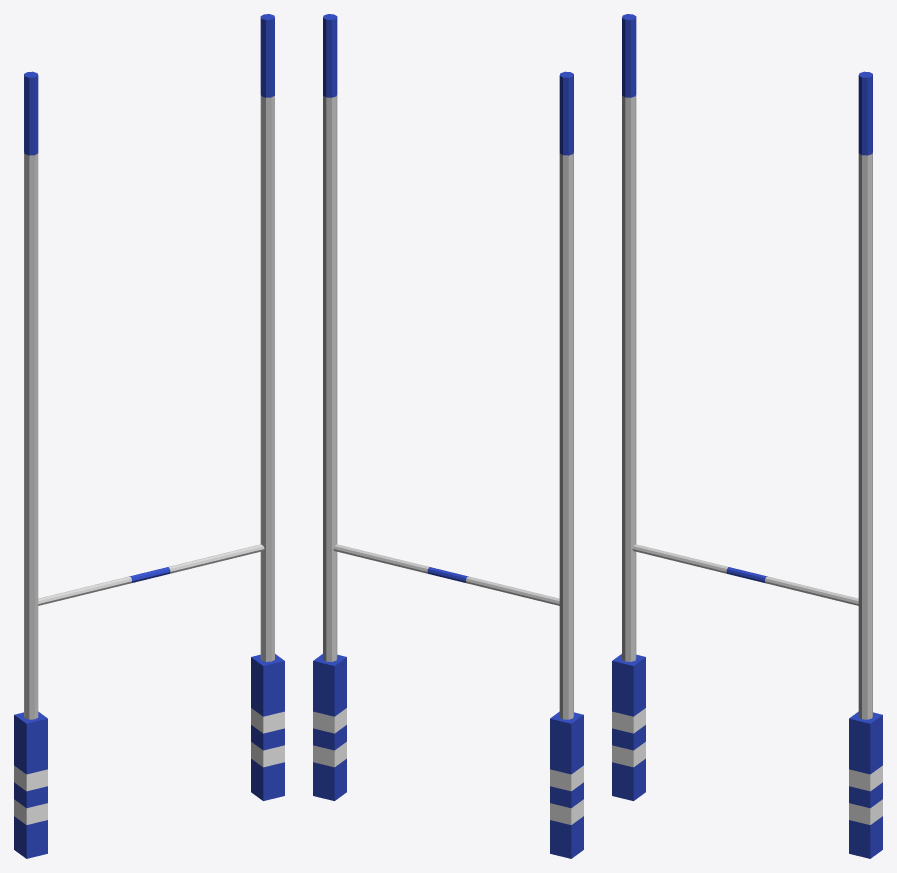
File: Rugby Goals.fbx
The picture shows the model from 3 angles, left to right: view 1: azimuth 30°, elevation 25°; view 2: azimuth 150°, elevation 25°; view 3: azimuth 330°, elevation 25°; orthographic projection.
Visible parts, largest first — view 1: Rugby Goals; view 2: Rugby Goals; view 3: Rugby Goals.
Boxes of the visible parts, x1=… form: Rugby Goals: x1=14, y1=14, x2=284, y2=858; Rugby Goals: x1=313, y1=14, x2=583, y2=858; Rugby Goals: x1=612, y1=14, x2=882, y2=858.
Size of the model in its own units: 1680 by 4830 by 140.
